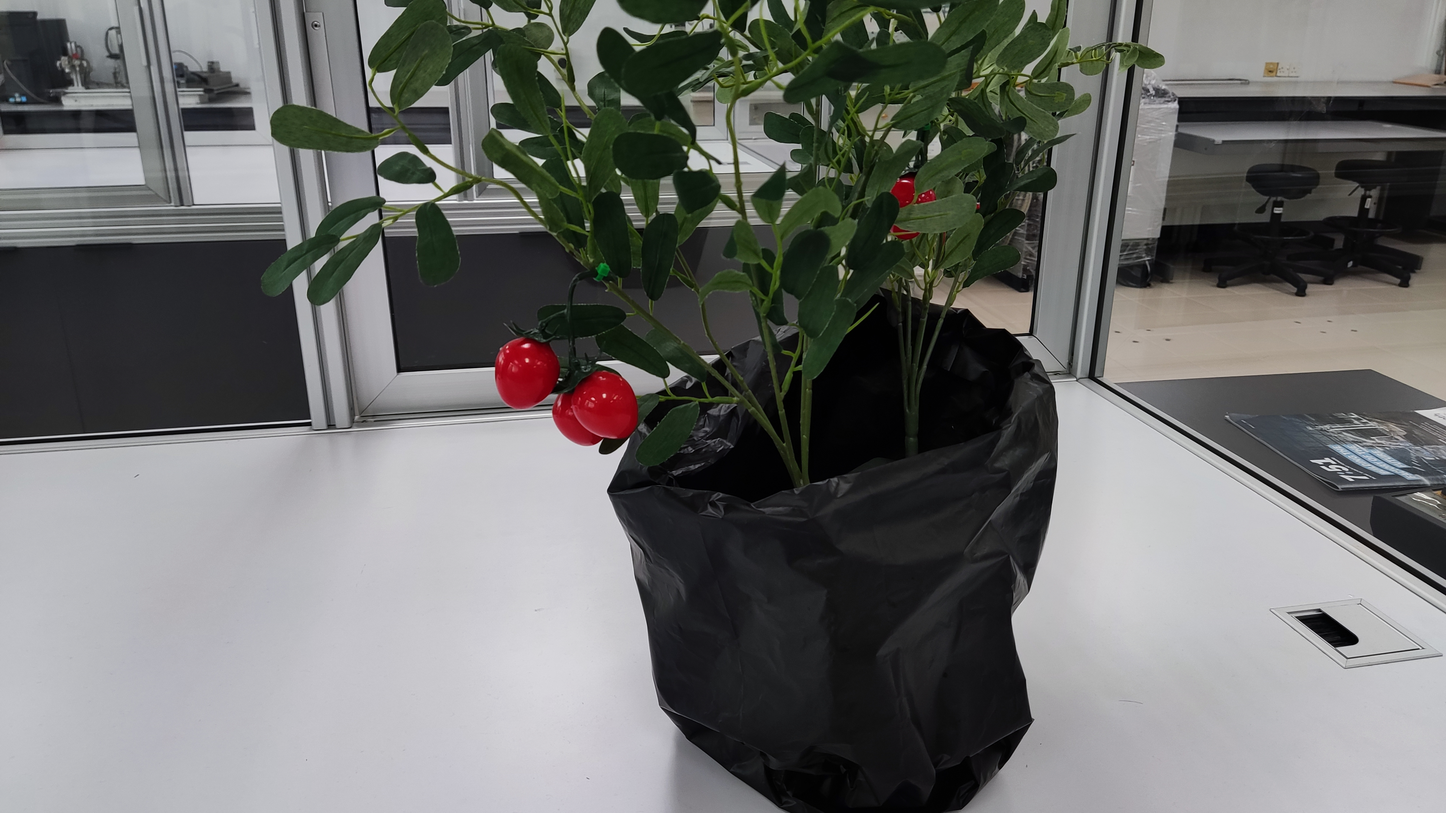peduncle: (566, 271, 588, 308)
strawberry: (494, 336, 560, 408), (572, 369, 638, 438), (552, 392, 602, 445), (892, 178, 937, 207), (892, 223, 920, 238)
